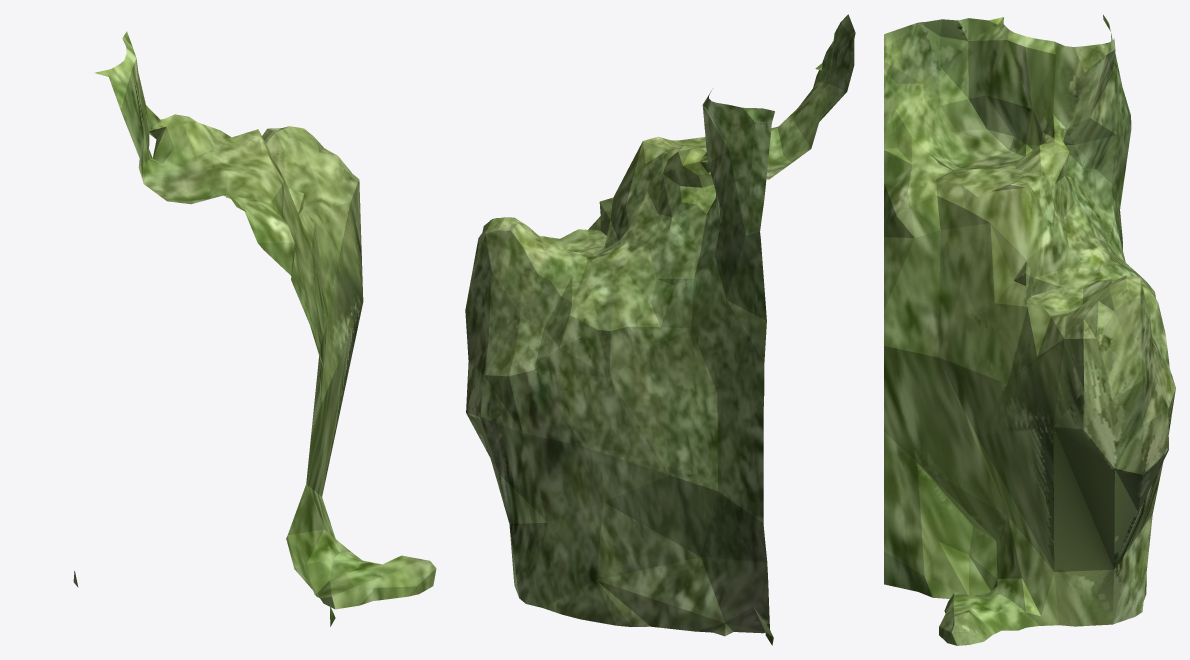
3 views of the same model, side by side, from view 1: azimuth 30°, elevation 25°; view 2: azimuth 150°, elevation 25°; view 3: azimuth 270°, elevation 25° (orthographic). The views are drawn at different scales.
Size of the model in its own units: 1.75 by 2.95 by 1.58.
3 materials, 3 textured.
